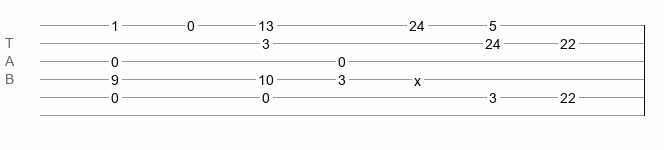0: (111, 54, 119, 64), (111, 90, 119, 100), (187, 18, 195, 28), (262, 90, 270, 100), (338, 54, 346, 64)
1: (111, 18, 119, 28)
10: (258, 72, 274, 82)
13: (258, 18, 274, 28)
22: (560, 90, 576, 100), (560, 36, 576, 46)
24: (409, 18, 425, 28), (485, 36, 501, 46)
3: (262, 36, 270, 46), (338, 72, 346, 82), (489, 90, 497, 100)
5: (489, 18, 497, 28)
9: (111, 72, 119, 82)
x: (414, 73, 421, 81)
